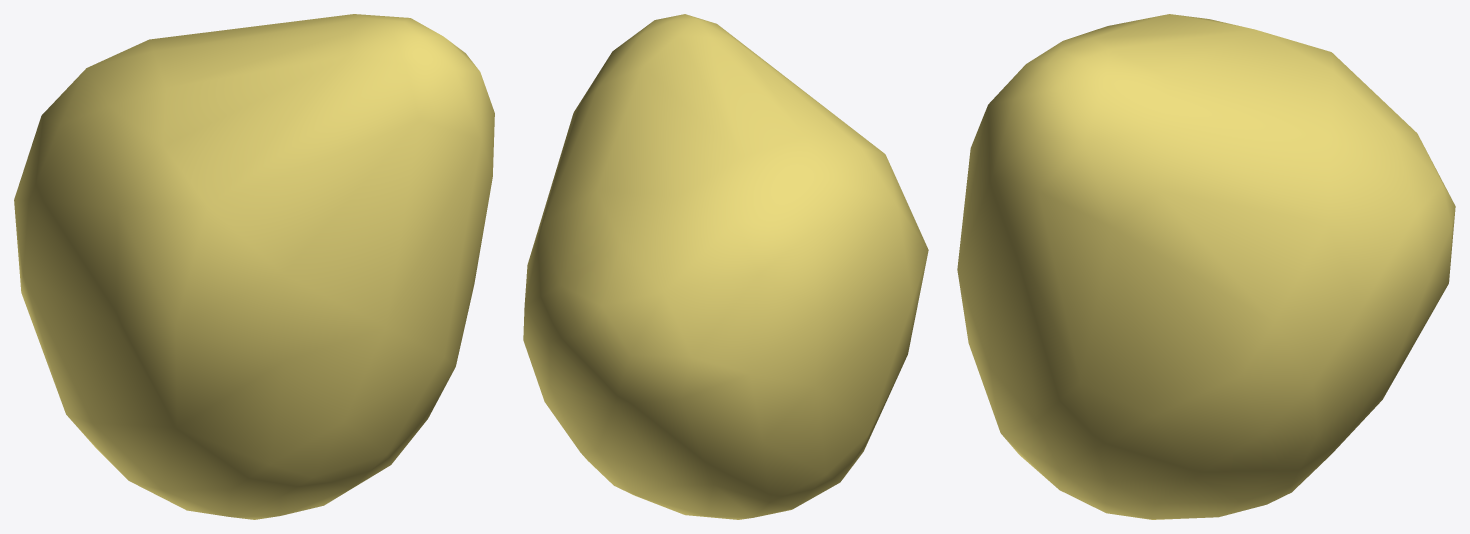
Rendered from mamillary-body-l.glb.
The picture shows the model from 3 angles, left to right: view 1: azimuth 30°, elevation 25°; view 2: azimuth 150°, elevation 25°; view 3: azimuth 270°, elevation 25°; orthographic projection. The views are drawn at different scales.
Parts seen in each view (by area): view 1: Mamillary body.l; view 2: Mamillary body.l; view 3: Mamillary body.l.
Boxes of the visible parts, x1,y1,x2,y2 form: Mamillary body.l: (14,14,494,519); Mamillary body.l: (523,14,928,519); Mamillary body.l: (957,14,1455,519).
Bounding box in the file's own units: 0.00384 × 0.00487 × 0.00443.
